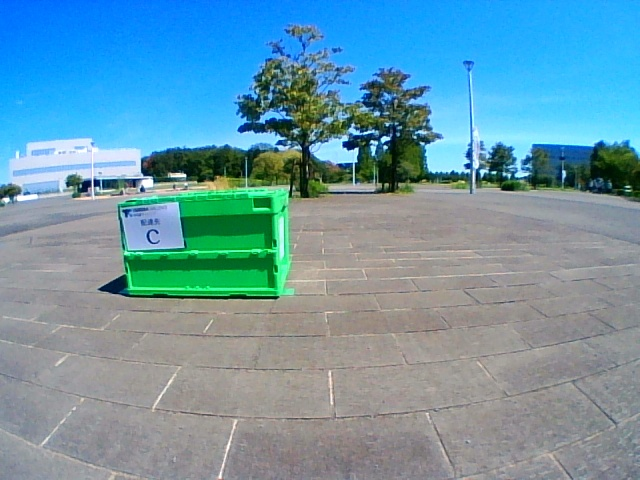green_box: (118, 188, 290, 298)
tag_c: (128, 208, 177, 248)
